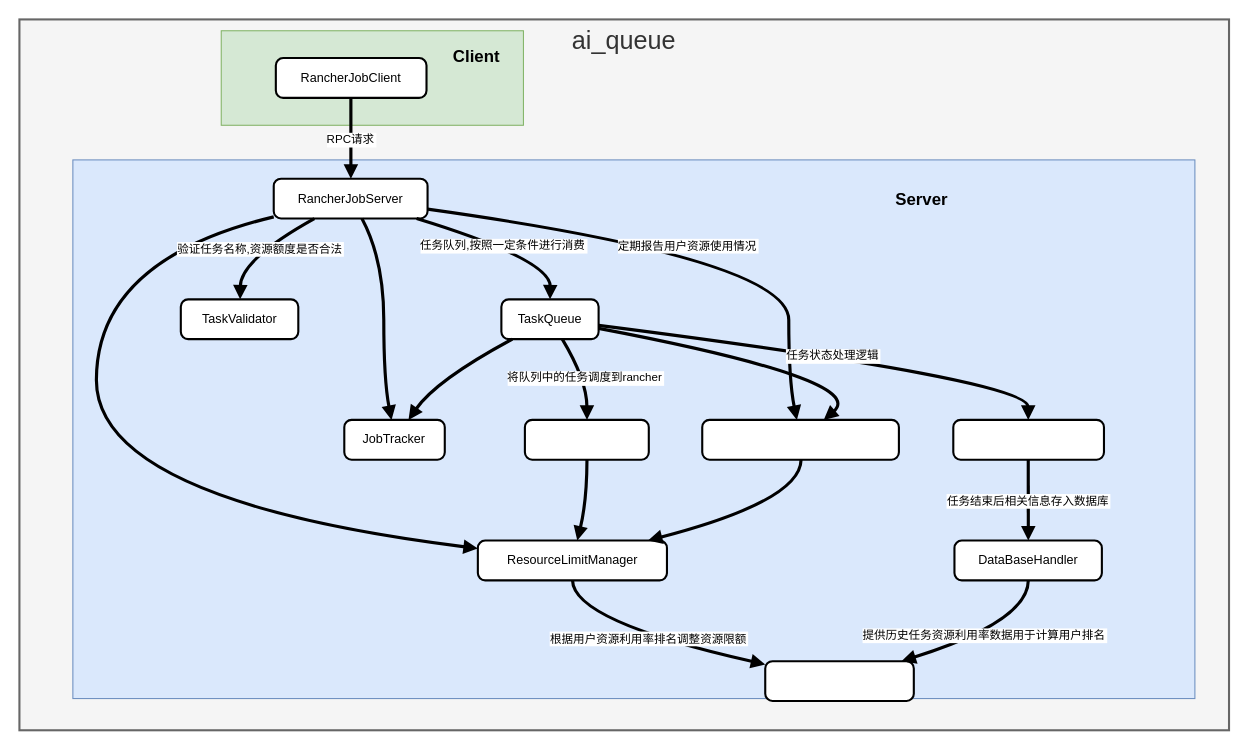
Image size: 1247x749. Some labels were removed from this diagram. Here are the shapes that lost their labels. From the top down, the centre of each, then its label:
At (x=586, y=439): "TaskScheduler".
At (x=800, y=439): "ResourceUsageReporter".
At (x=1028, y=439): "JobStatusHandler".
At (x=839, y=681): "ResouceAllocator".
